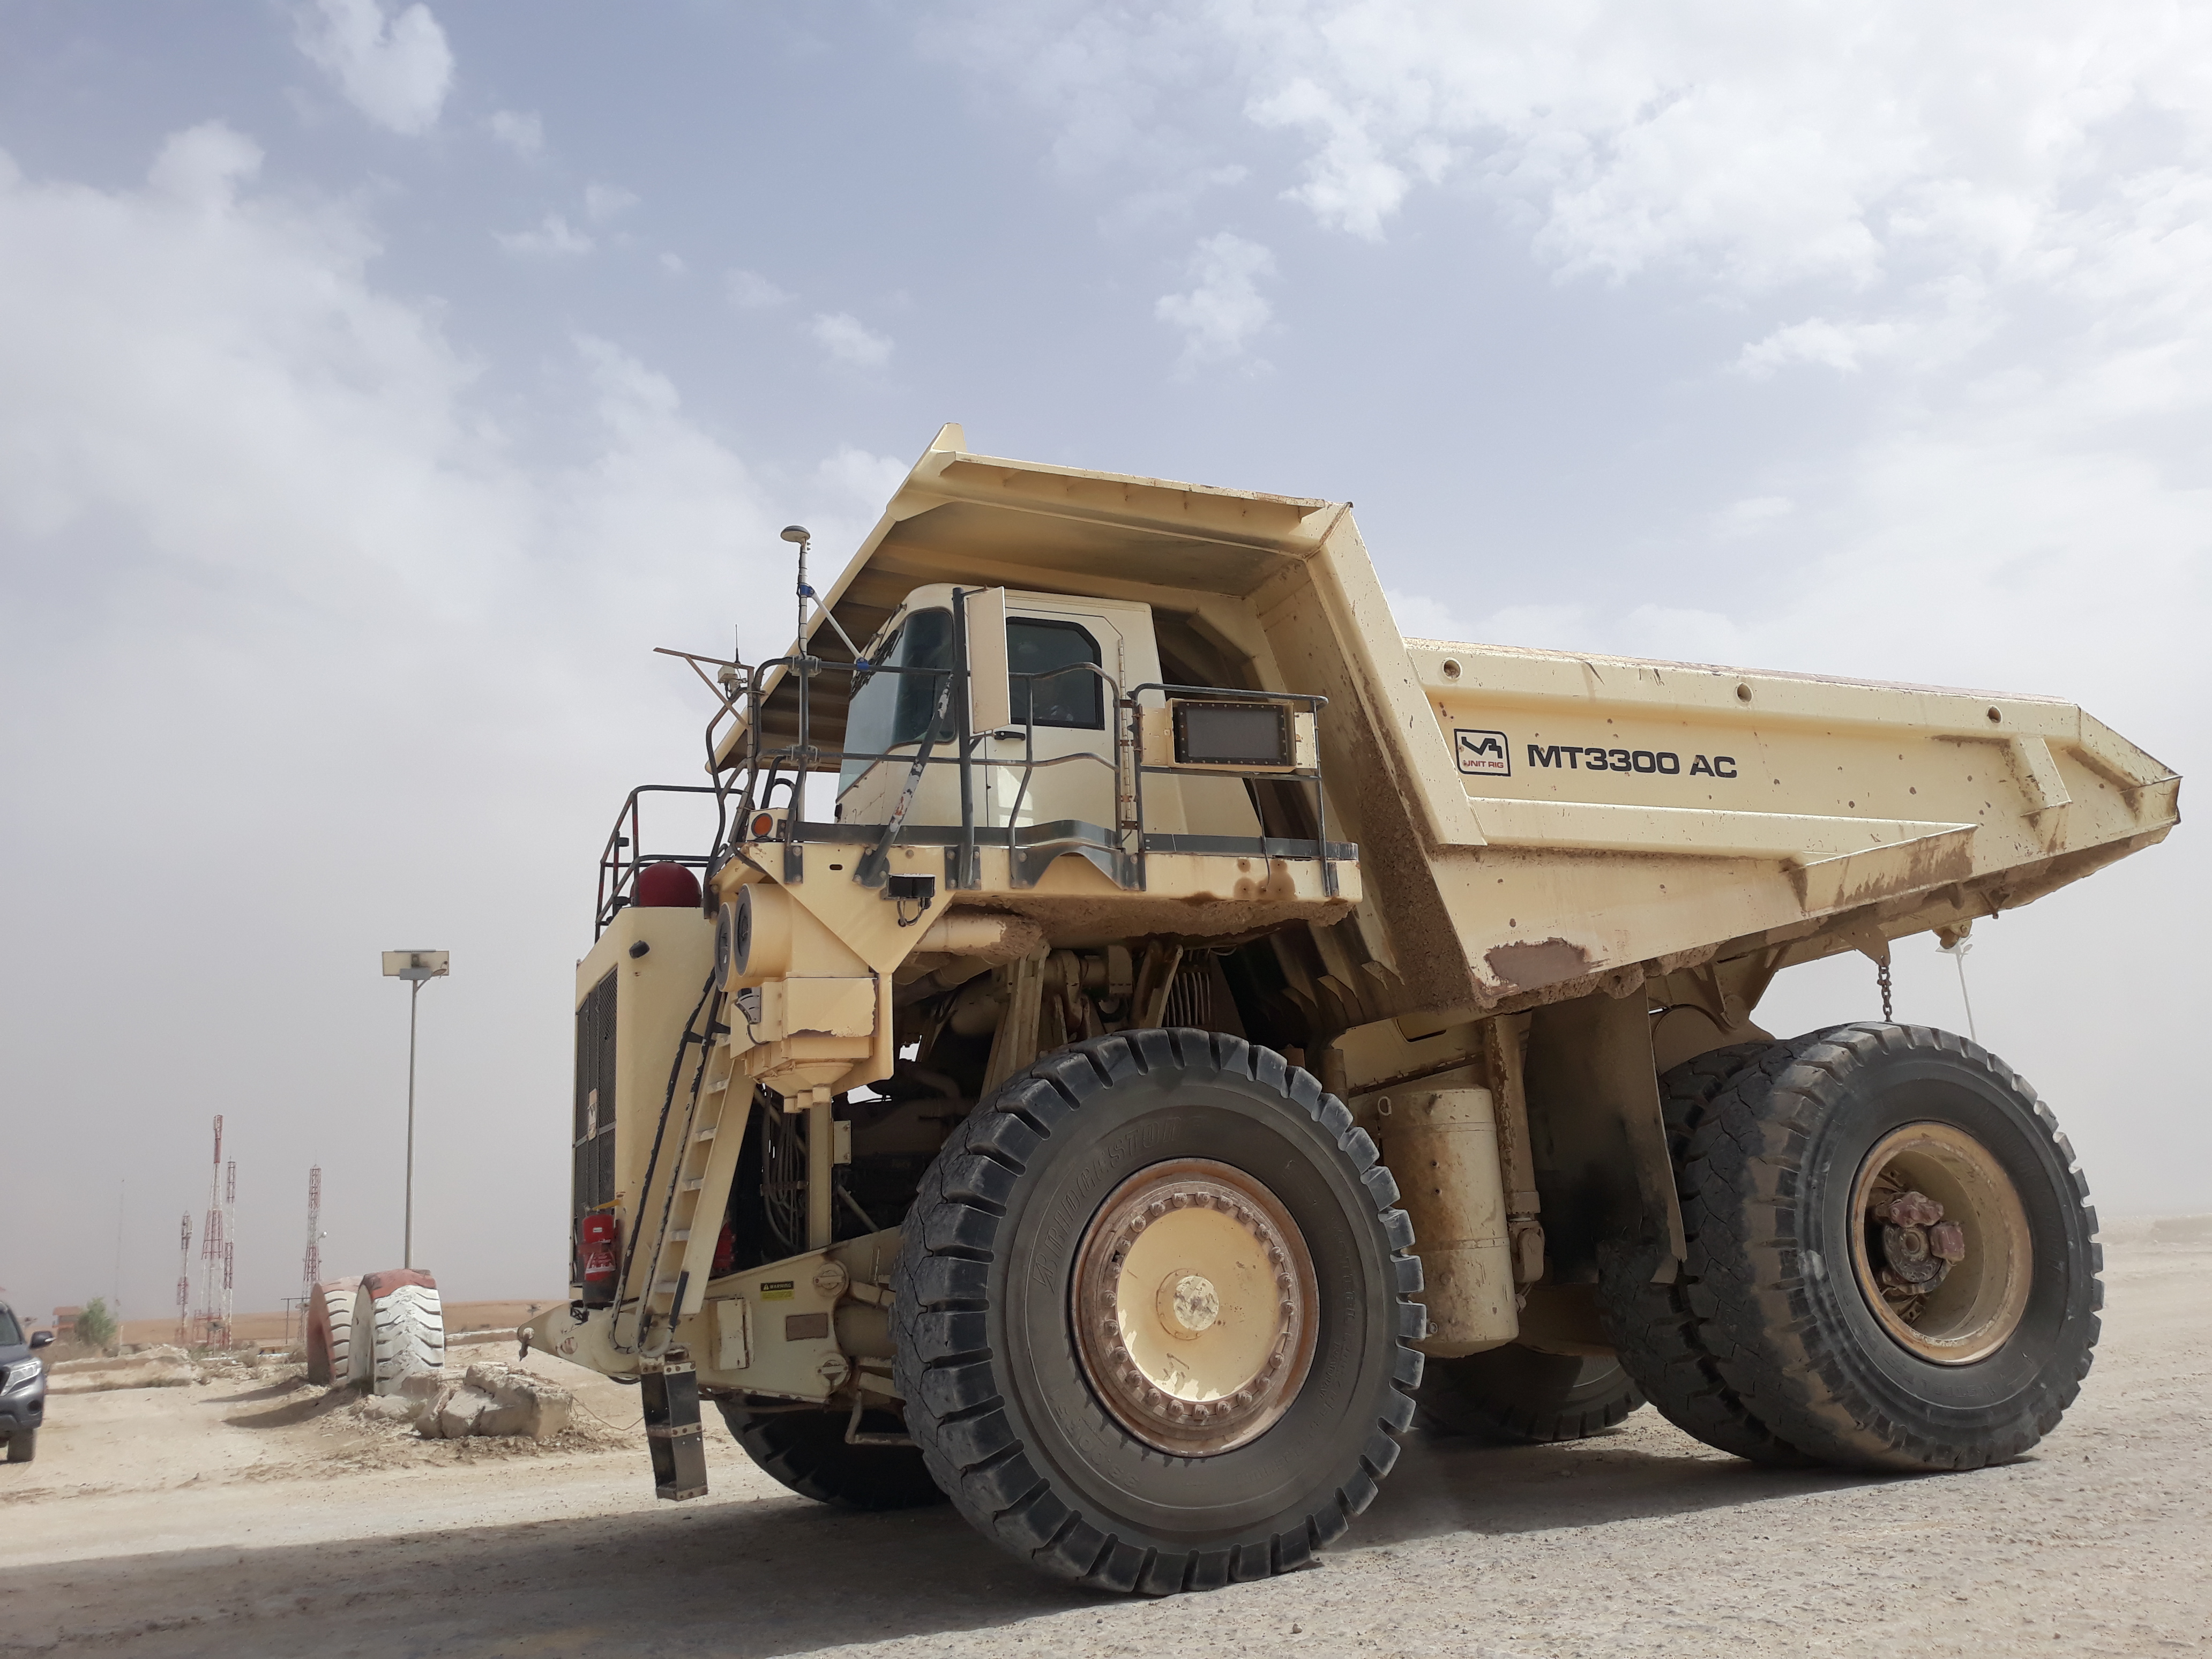camion: (538, 415, 2212, 1598)
